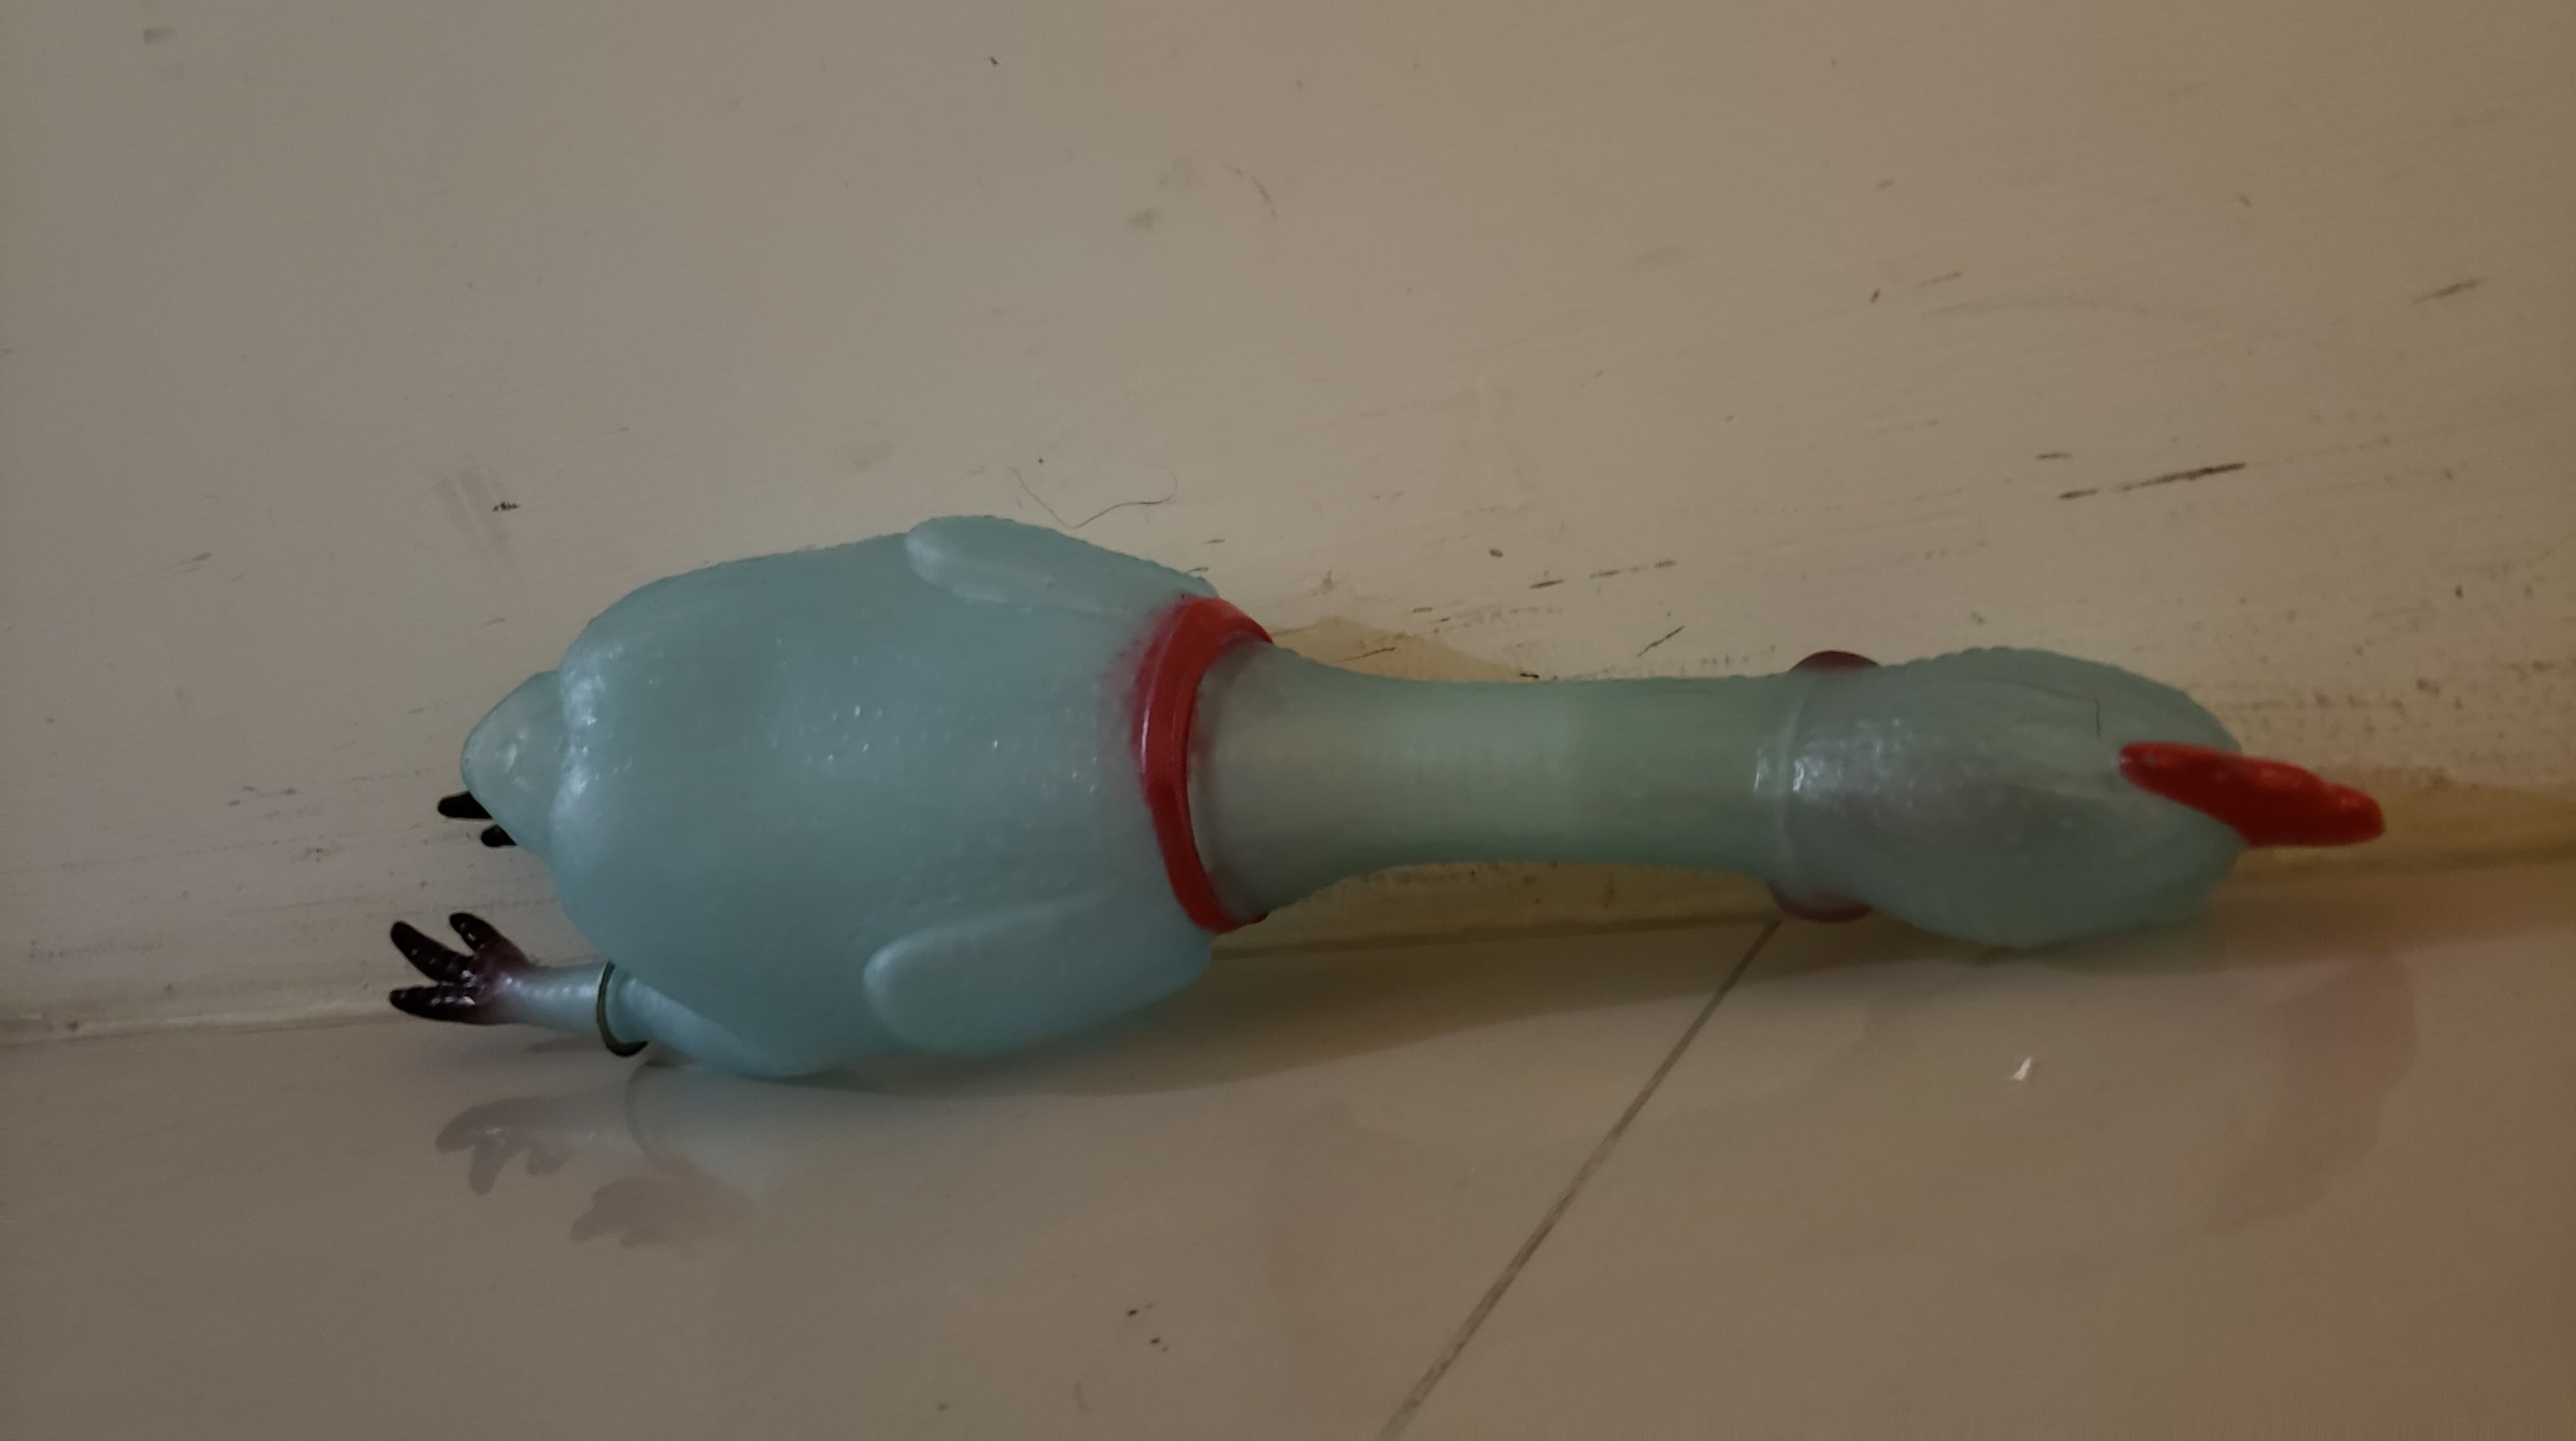Screaming chicken: (391, 566, 2387, 1139)
